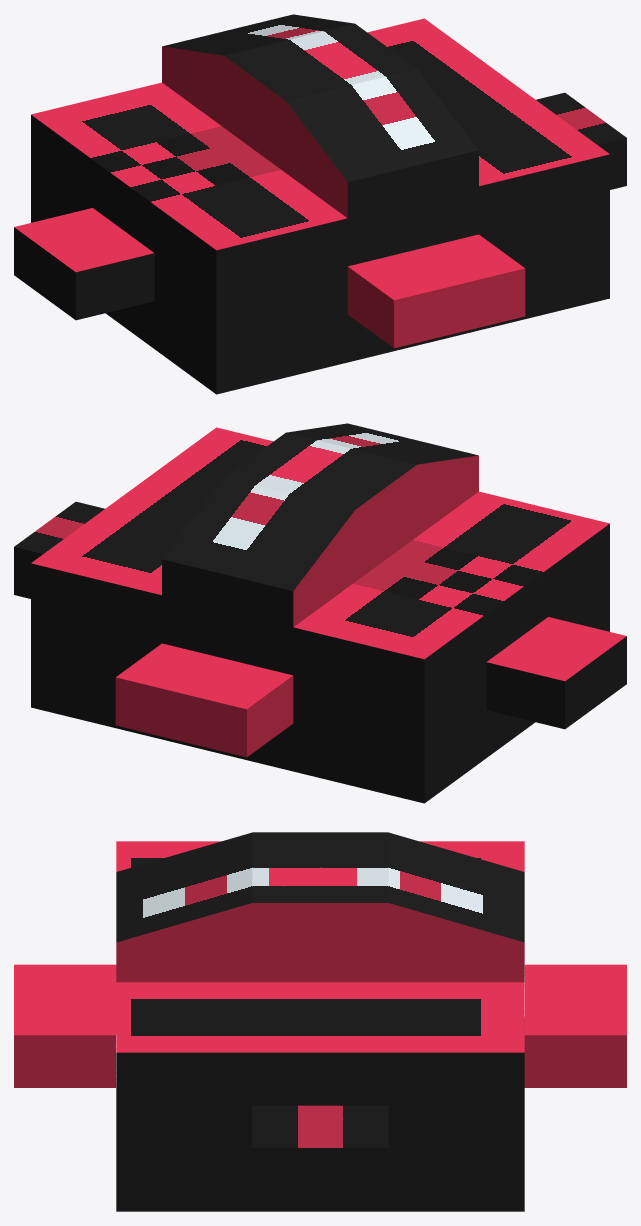
File: mob.gltf
3 renders of one model, top to bottom at view 1: azimuth 30°, elevation 25°; view 2: azimuth 150°, elevation 25°; view 3: azimuth 270°, elevation 25°, orthographic. The views are drawn at different scales.
Visible parts, largest first — view 1: cuboid; view 2: cuboid; view 3: cuboid.
Part boxes in pixels (left/top/right/bottom): cuboid: left=14, top=14, right=626, bottom=394; cuboid: left=14, top=423, right=626, bottom=803; cuboid: left=14, top=832, right=626, bottom=1211.
Size of the model in its own units: 1 by 0.375 by 0.875.
Materials: 1 (1 with a texture image).
